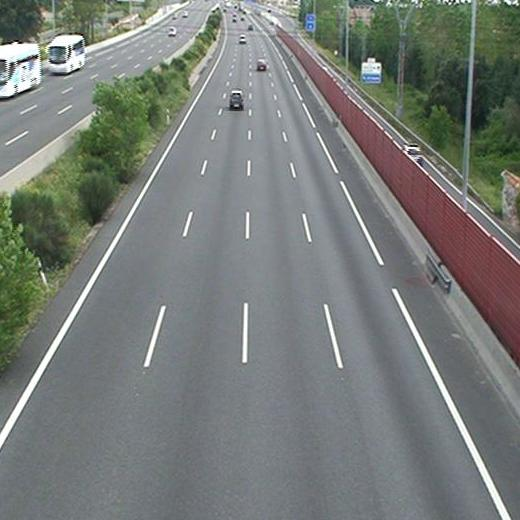car: (229, 91, 243, 108), (257, 60, 267, 72), (240, 34, 247, 44)
